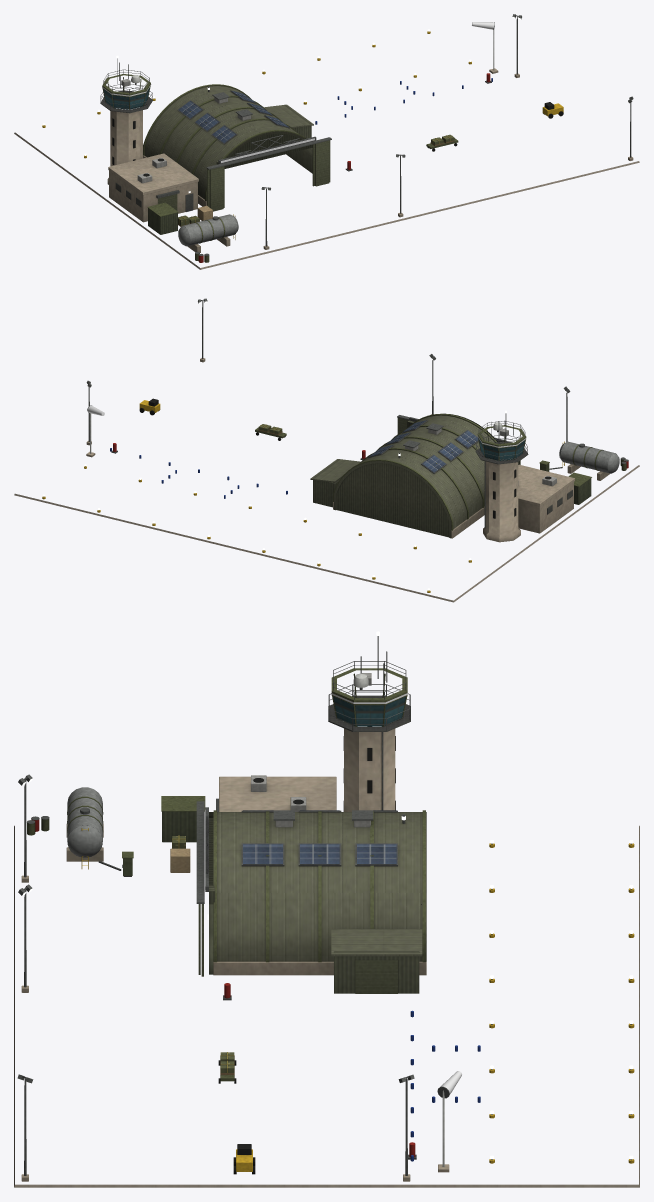
The model's file is airfield.glb.
3 views of the same model, one above another, from view 1: azimuth 30°, elevation 25°; view 2: azimuth 150°, elevation 25°; view 3: azimuth 270°, elevation 25° (orthographic). The views are drawn at different scales.
Visible parts, largest first — view 1: Building, Props; view 2: Building, Props; view 3: Building, Props.
Boxes of the visible parts, left/top/right/bottom form: Building: left=14, top=58, right=639, bottom=269; Props: left=42, top=14, right=633, bottom=262; Building: left=14, top=413, right=639, bottom=602; Props: left=42, top=298, right=628, bottom=592; Building: left=14, top=636, right=639, bottom=1187; Props: left=17, top=774, right=634, bottom=1181.
Size of the model in its own units: 60 by 16.72 by 44.
27 materials, 1 textured.
